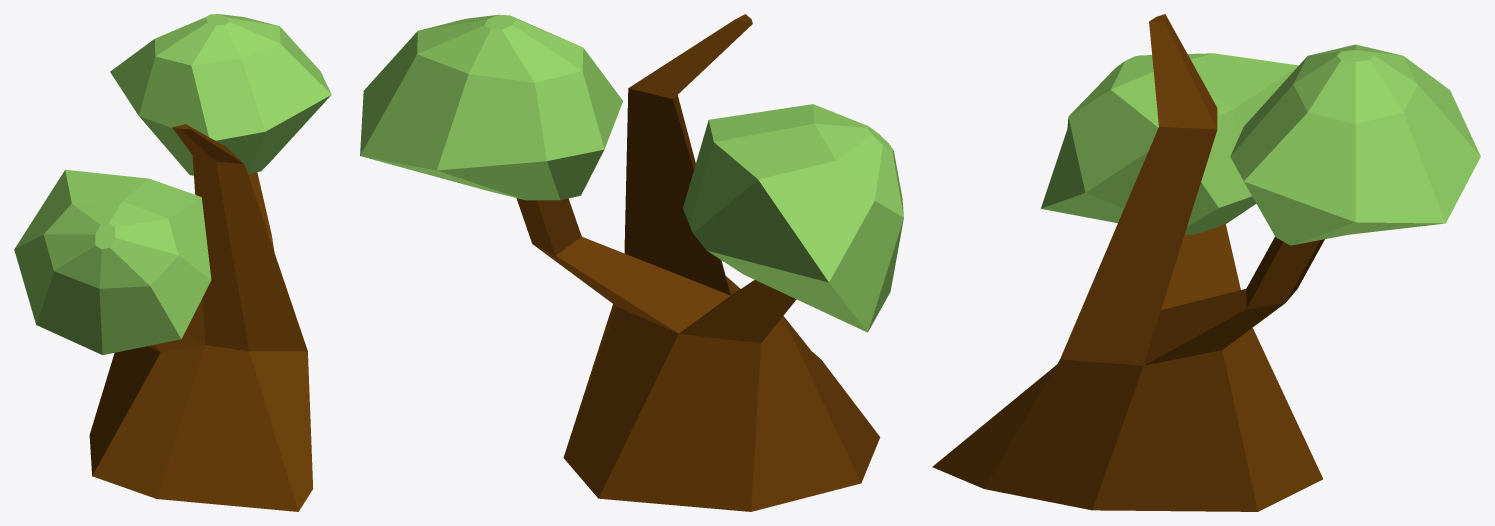
File: Small Tree 1.fbx
3 views of the same model, side by side, from view 1: azimuth 30°, elevation 25°; view 2: azimuth 150°, elevation 25°; view 3: azimuth 270°, elevation 25° (orthographic). The views are drawn at different scales.
Parts seen in each view (by area): view 1: Cube.002, Cube; view 2: Cube, Cube.002; view 3: Cube, Cube.002.
Boxes of the visible parts, box(x1,y1,x2,y2) form: Cube.002: box(14, 14, 331, 355); Cube: box(89, 124, 313, 511); Cube: box(516, 14, 880, 511); Cube.002: box(360, 14, 903, 332); Cube: box(932, 14, 1324, 511); Cube.002: box(1041, 44, 1480, 245).
Bounding box in the file's own units: 638 × 639 × 687.
